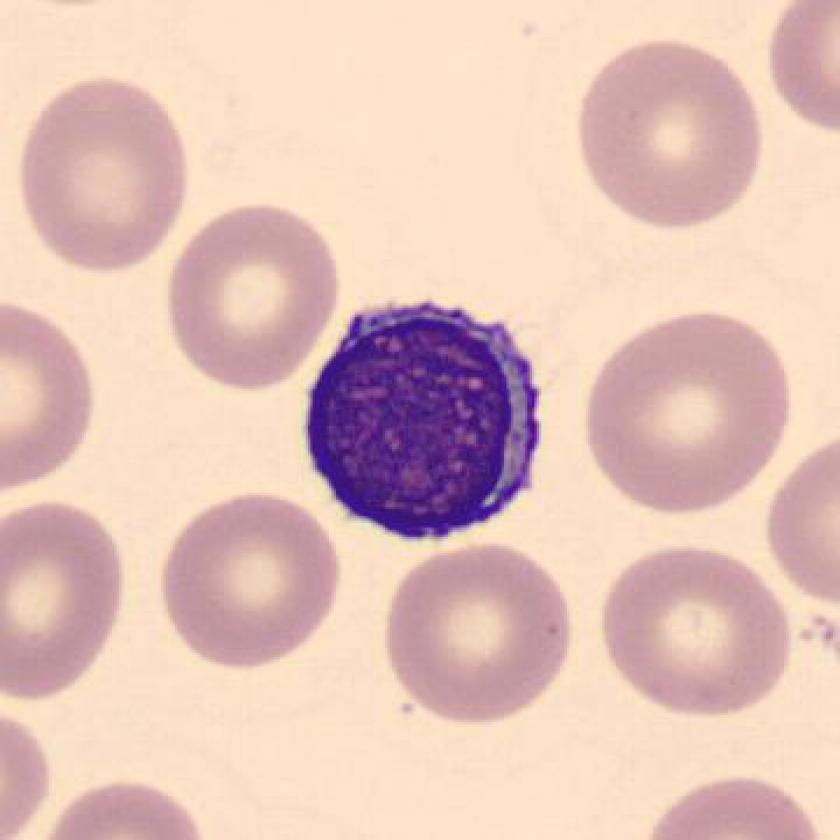lymphocyte: (293, 288, 561, 554)
